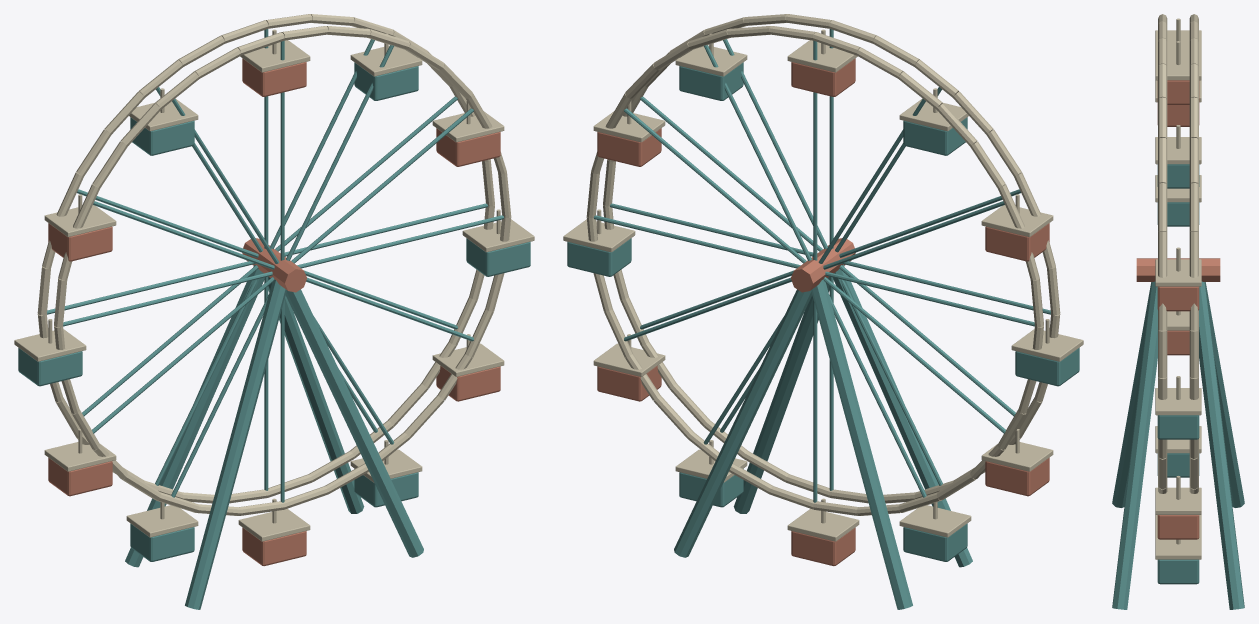
Rendered from prop_ferris_wheel.glb.
3 views of the same model, side by side, from view 1: azimuth 30°, elevation 25°; view 2: azimuth 150°, elevation 25°; view 3: azimuth 270°, elevation 25° (orthographic). The views are drawn at different scales.
Parts seen in each view (by area): view 1: scenery_teal, scenery_cream, scenery_coral; view 2: scenery_teal, scenery_cream, scenery_coral; view 3: scenery_teal, scenery_cream, scenery_coral.
Boxes of the visible parts, x1,y1,x2,y2 form: scenery_teal: [18, 29, 530, 609]; scenery_cream: [14, 14, 534, 541]; scenery_coral: [48, 58, 500, 566]; scenery_teal: [567, 29, 1079, 609]; scenery_cream: [563, 14, 1083, 541]; scenery_coral: [597, 58, 1049, 566]; scenery_teal: [1112, 164, 1244, 609]; scenery_cream: [1155, 14, 1201, 559]; scenery_coral: [1136, 80, 1220, 539].
Size of the model in its own units: 26.6 by 27.37 by 6.32.
